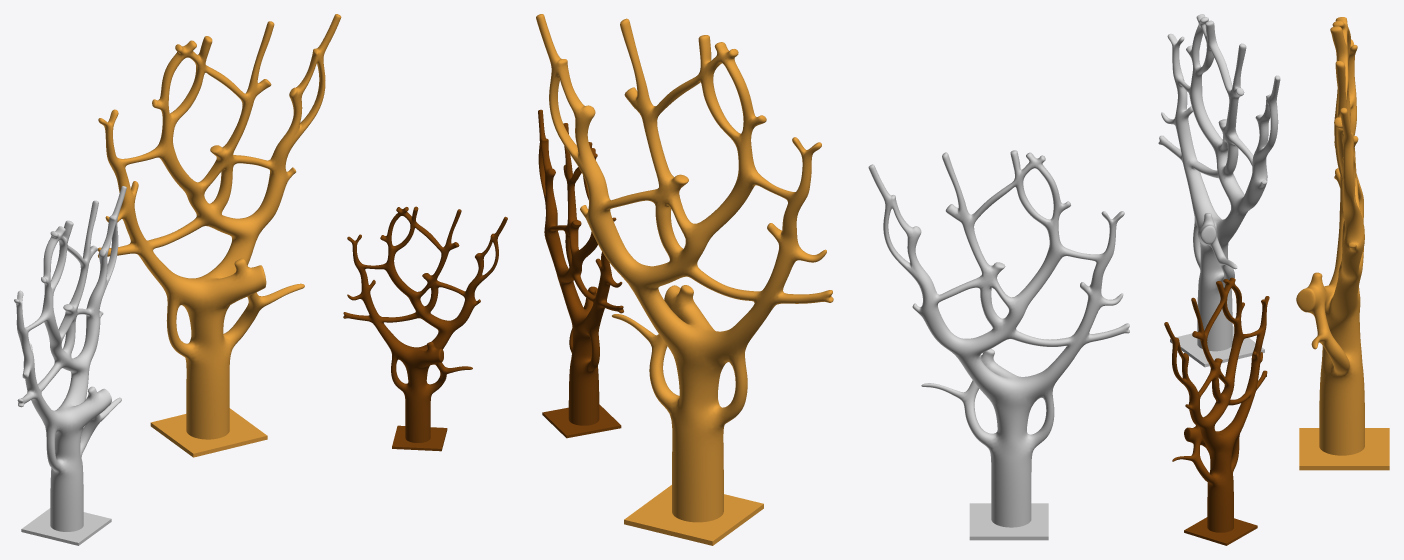
Rendered from tree.glb.
The picture shows the model from 3 angles, left to right: view 1: azimuth 30°, elevation 25°; view 2: azimuth 150°, elevation 25°; view 3: azimuth 270°, elevation 25°; orthographic projection. The views are drawn at different scales.
Visible parts, largest first — view 1: Derevo_style.001, Derevo_style.002, Derevo_style; view 2: Derevo_style.001, Derevo_style.002, Derevo_style; view 3: Derevo_style.001, Derevo_style.002, Derevo_style.
Part boxes in pixels (bbox=[...]): Derevo_style.001: bbox=[98, 14, 341, 457]; Derevo_style.002: bbox=[14, 186, 126, 545]; Derevo_style: bbox=[343, 206, 507, 451]; Derevo_style.001: bbox=[536, 14, 833, 545]; Derevo_style.002: bbox=[868, 150, 1129, 540]; Derevo_style: bbox=[538, 109, 623, 438]; Derevo_style.001: bbox=[1296, 17, 1389, 470]; Derevo_style.002: bbox=[1158, 14, 1280, 367]; Derevo_style: bbox=[1164, 277, 1269, 545].
Size of the model in its own units: 1.19 by 0.9281 by 0.4596.
